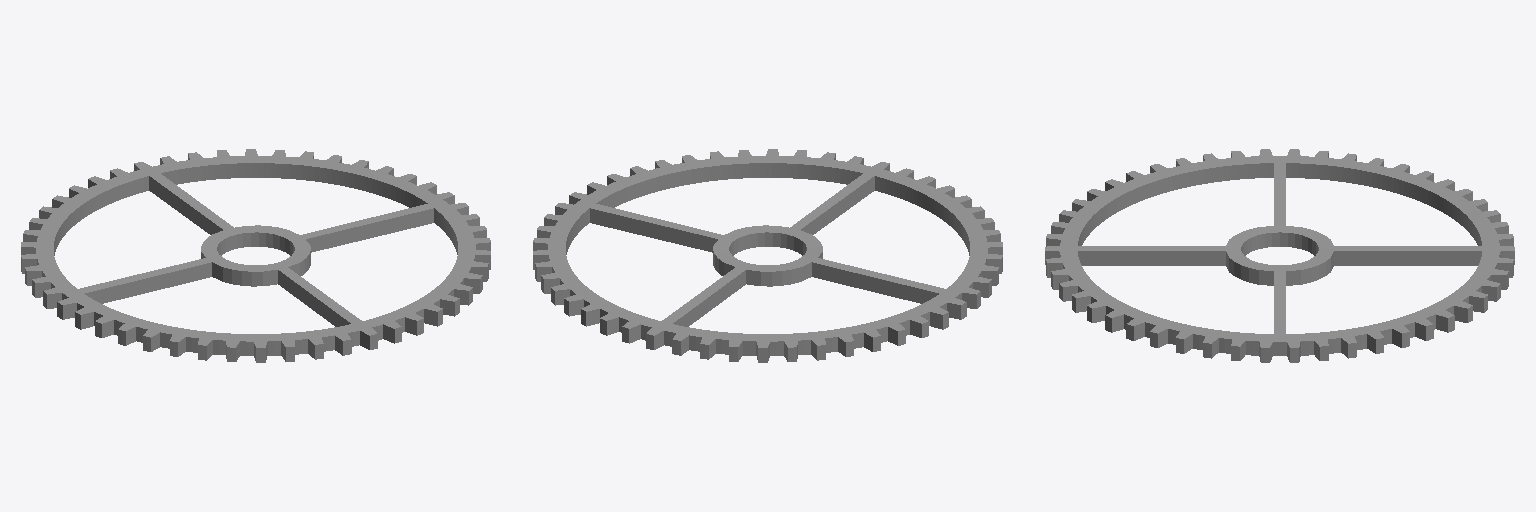
File: gear.obj
The picture shows the model from 3 angles: view 1: azimuth 30°, elevation 25°; view 2: azimuth 150°, elevation 25°; view 3: azimuth 270°, elevation 25°; orthographic projection.
Visible parts, largest first — view 1: Gear.001; view 2: Gear.001; view 3: Gear.001.
Part boxes in pixels (bbox=[...]): Gear.001: bbox=[21, 149, 490, 362]; Gear.001: bbox=[533, 149, 1002, 362]; Gear.001: bbox=[1045, 149, 1514, 362].
Size of the model in its own units: 2.14 by 0.074 by 2.14.